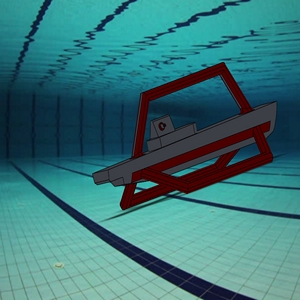submarine: (85, 57, 290, 219)
